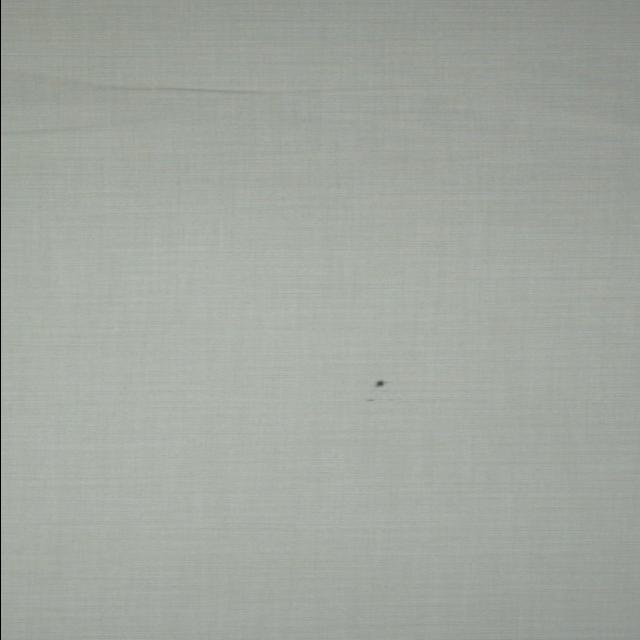dirty: (374, 379, 384, 386)
